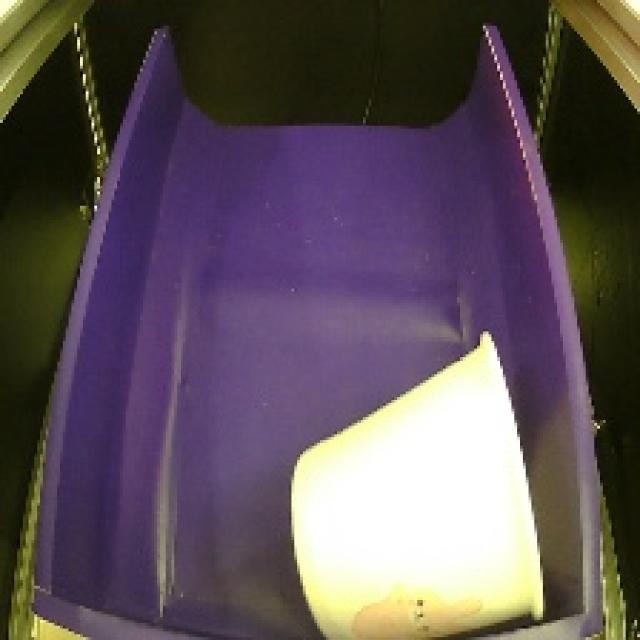cups: (280, 310, 550, 640)
